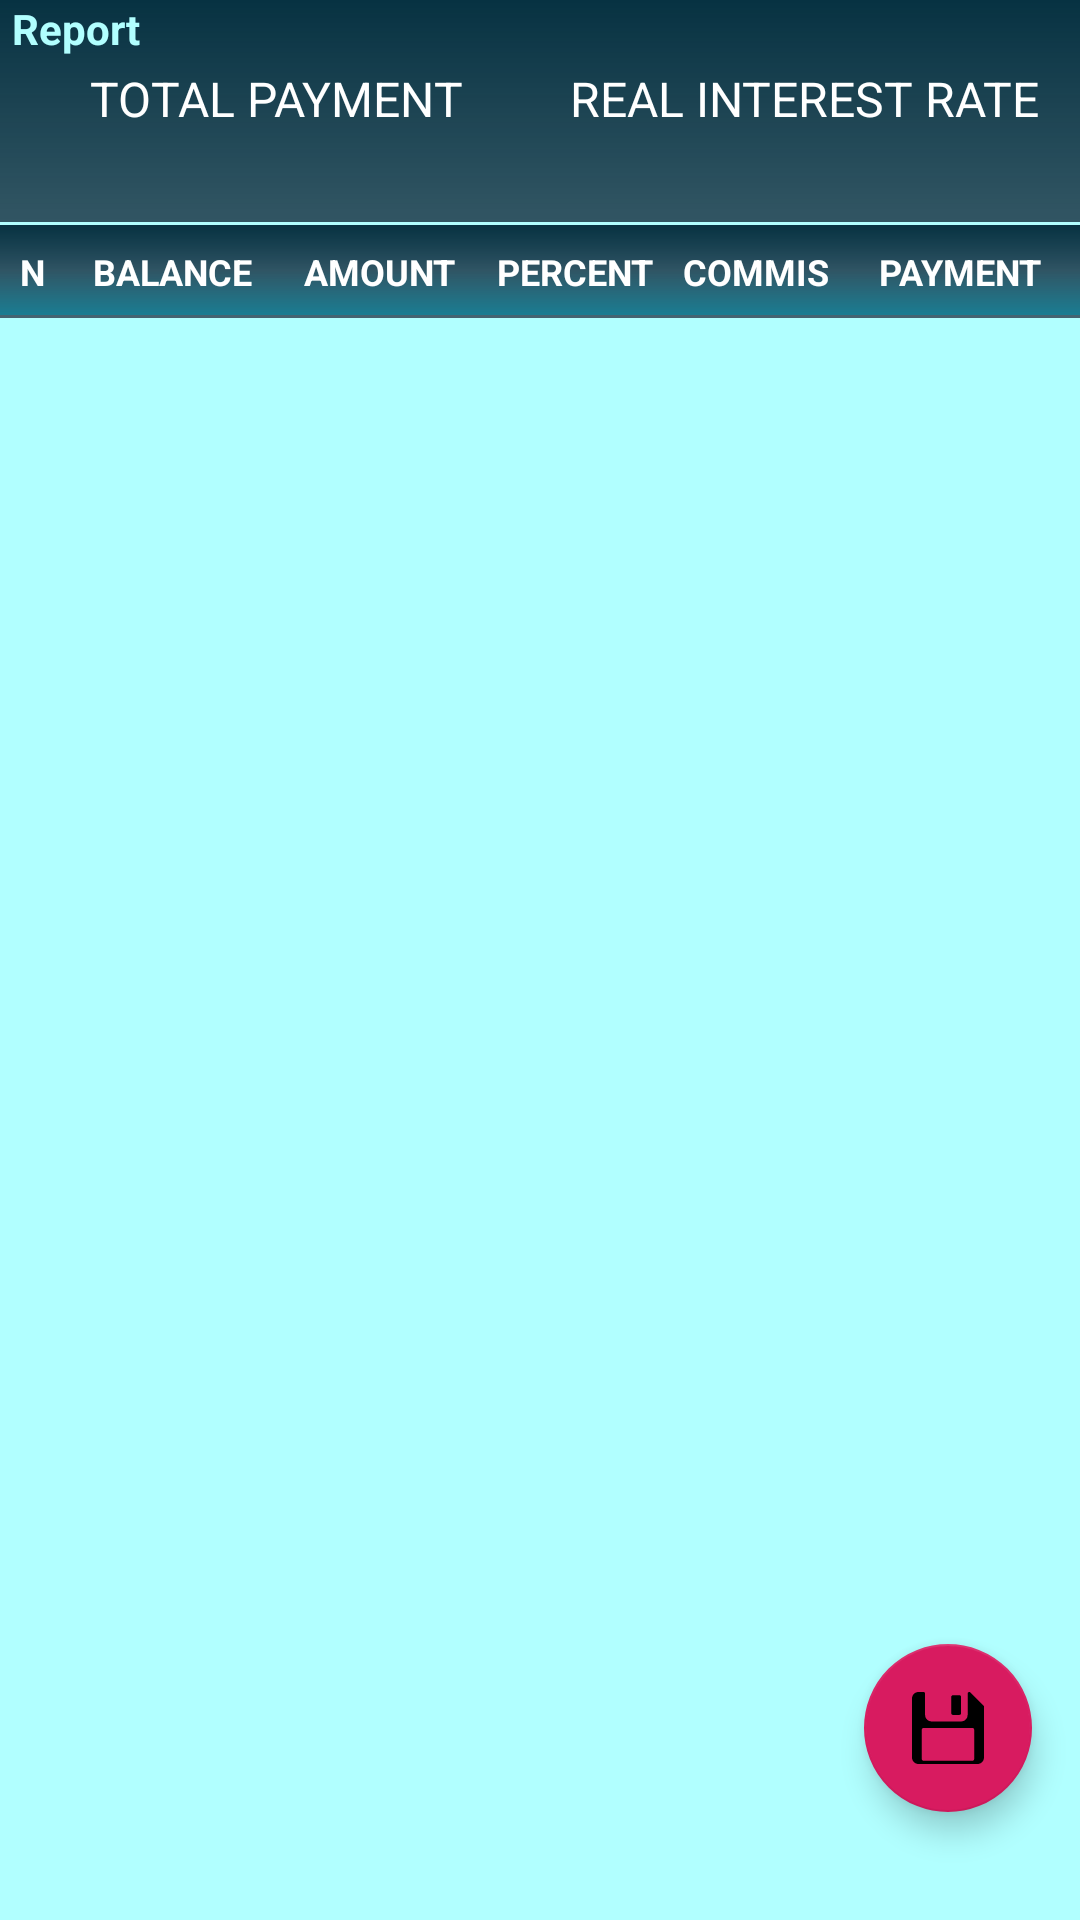

Where icons sit on this 1080*1920 app screen, as (x1, y1, x2, y2):
save: (864, 1644, 1032, 1812)
